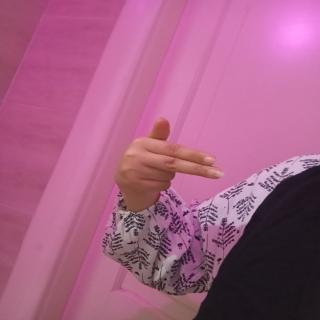GHAYN: (112, 112, 232, 205)
